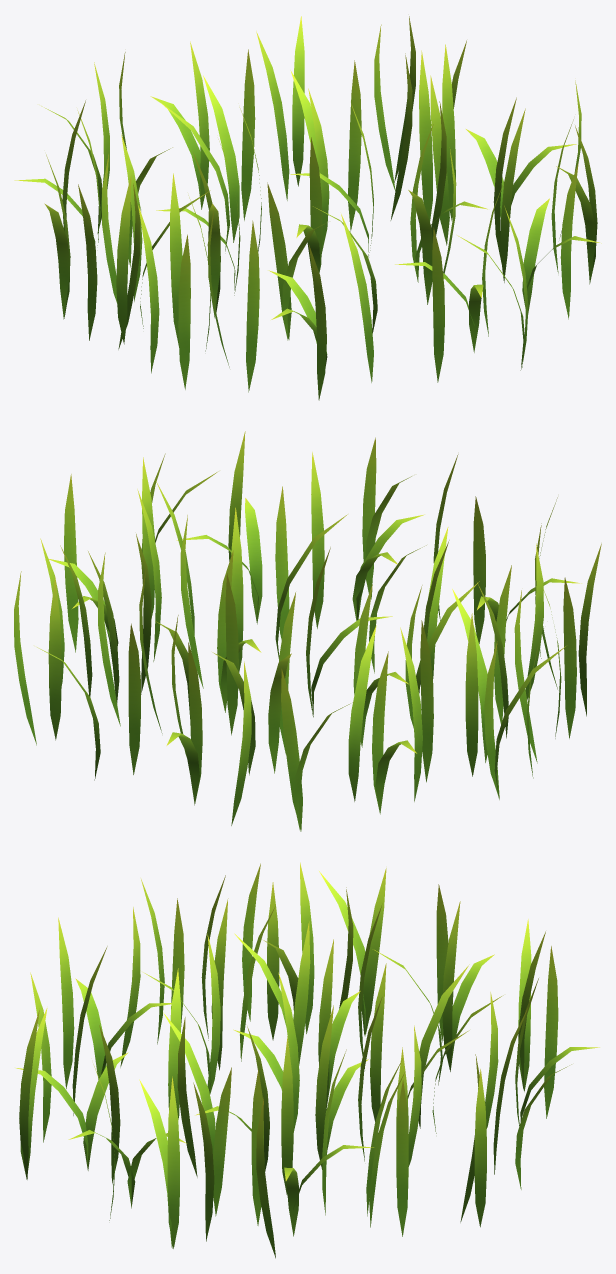
File: Wander_Grass_Test.fbx
The picture shows the model from 3 angles, top to bottom: view 1: azimuth 30°, elevation 25°; view 2: azimuth 150°, elevation 25°; view 3: azimuth 270°, elevation 25°; orthographic projection. The views are drawn at different scales.
Visible parts, largest first — view 1: Grass; view 2: Grass; view 3: Grass.
Boxes of the visible parts, left/top/right/bottom form: Grass: left=14, top=16, right=601, bottom=400; Grass: left=14, top=431, right=601, bottom=831; Grass: left=16, top=862, right=599, bottom=1258.
Bounding box in the file's own units: 923 × 308 × 896.
